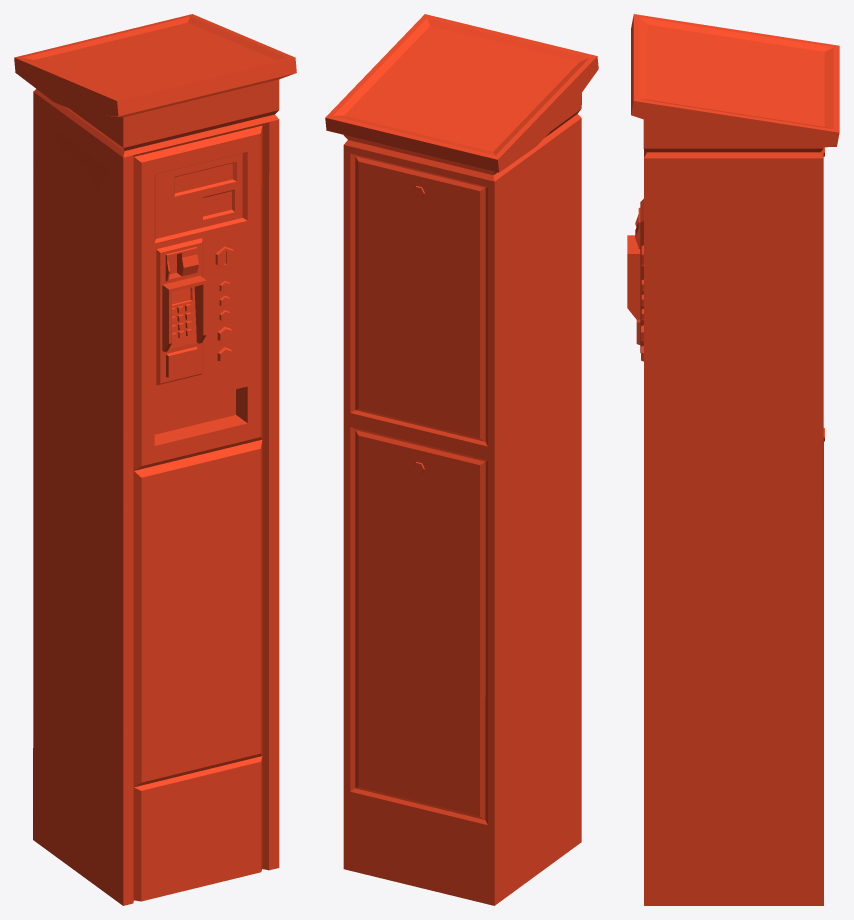
The model's file is SM_Parking_Machine_A_City.fbx.
3 views of the same model, side by side, from view 1: azimuth 30°, elevation 25°; view 2: azimuth 150°, elevation 25°; view 3: azimuth 270°, elevation 25° (orthographic). The views are drawn at different scales.
Parts seen in each view (by area): view 1: SM_Parking_Machine_A_City; view 2: SM_Parking_Machine_A_City; view 3: SM_Parking_Machine_A_City.
Boxes of the visible parts, left/top/right/bottom form: SM_Parking_Machine_A_City: left=14, top=14, right=296, bottom=905; SM_Parking_Machine_A_City: left=325, top=14, right=598, bottom=905; SM_Parking_Machine_A_City: left=627, top=14, right=839, bottom=905.
Size of the model in its own units: 0.5023 by 2.18 by 0.518.
